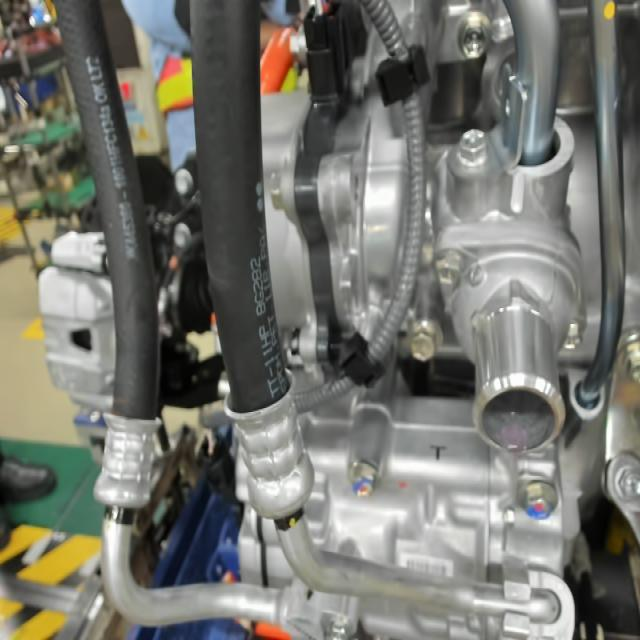Compressor-T: (424, 438, 452, 471)
